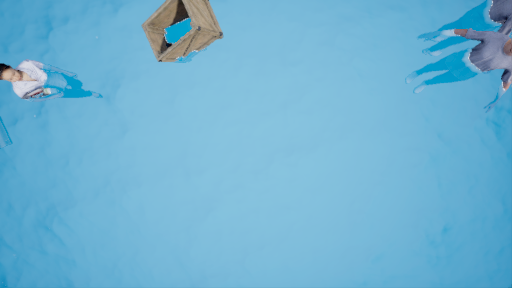person: (415, 23, 512, 98), (5, 55, 96, 115)
